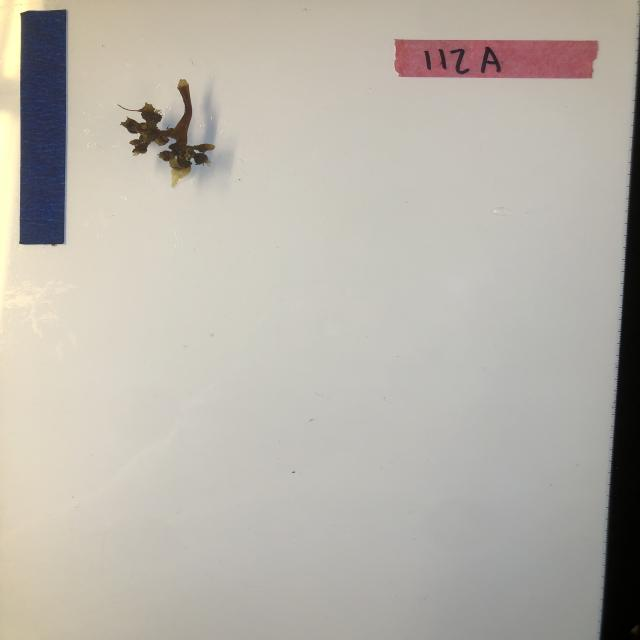index: (392, 37, 599, 83)
measure_label: (18, 5, 68, 248)
rachis_cluster: (114, 77, 226, 189)
